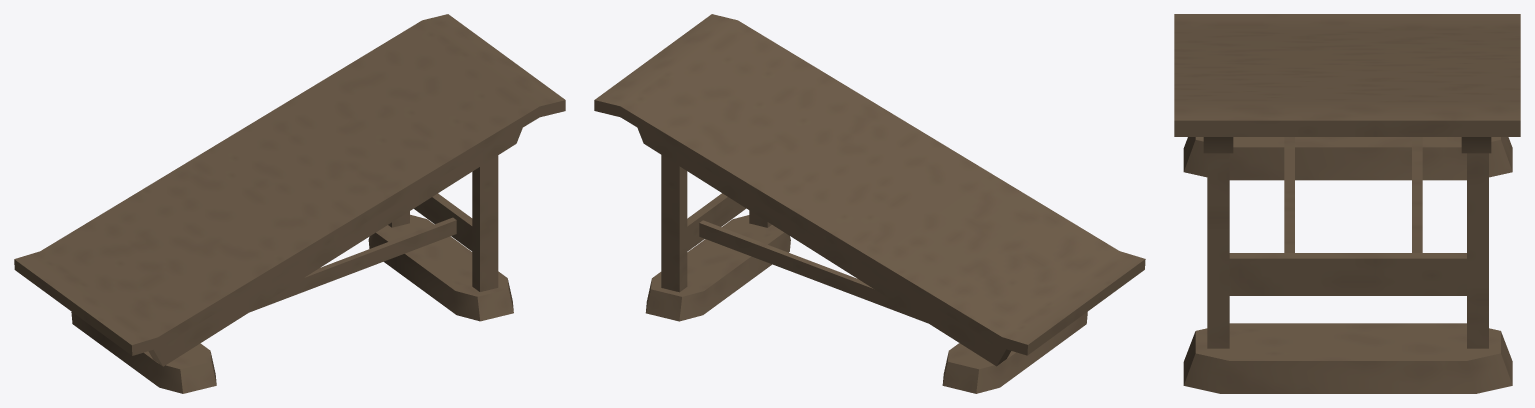
The model's file is BrokenTable.fbx.
3 views of the same model, side by side, from view 1: azimuth 30°, elevation 25°; view 2: azimuth 150°, elevation 25°; view 3: azimuth 270°, elevation 25° (orthographic). The views are drawn at different scales.
Parts seen in each view (by area): view 1: Cube.082; view 2: Cube.082; view 3: Cube.082.
Part boxes in pixels (x1=…): Cube.082: x1=14, y1=14, x2=565, y2=393; Cube.082: x1=594, y1=14, x2=1145, y2=393; Cube.082: x1=1174, y1=14, x2=1520, y2=393.
Size of the model in its own units: 283 by 127 by 133.
